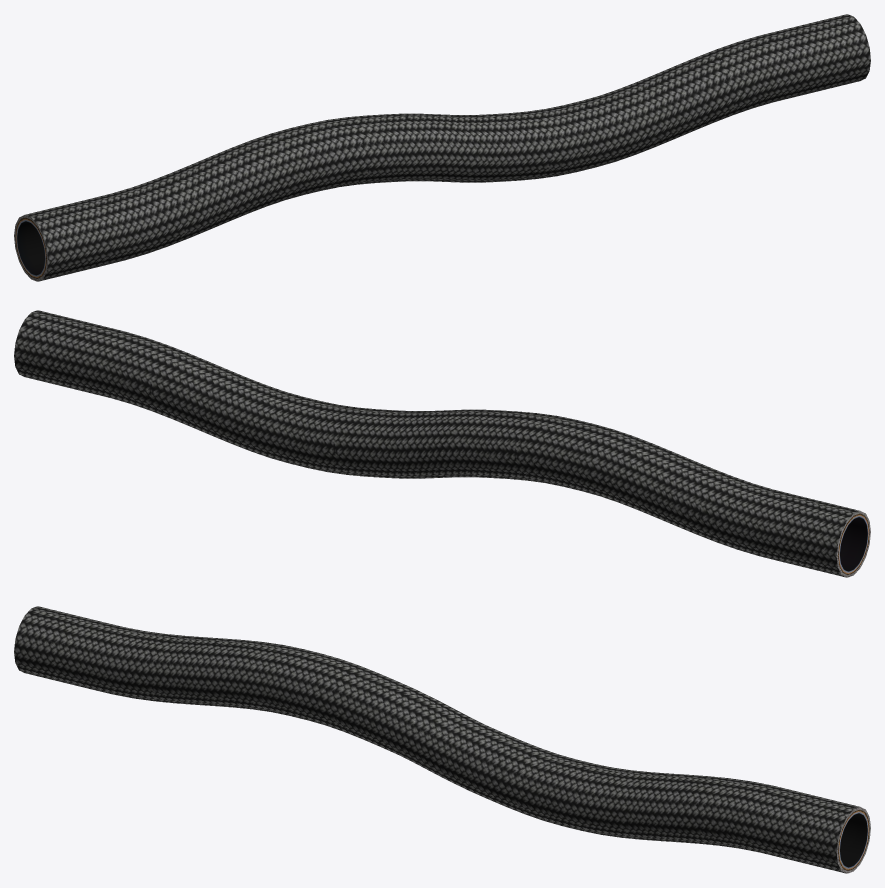
The picture shows the model from 3 angles, top to bottom: view 1: azimuth 30°, elevation 25°; view 2: azimuth 150°, elevation 25°; view 3: azimuth 330°, elevation 25°; orthographic projection.
Visible parts, largest first — view 1: Aramid_Braid-20; view 2: Aramid_Braid-20; view 3: Aramid_Braid-20.
Boxes of the visible parts, x1,y1,x2,y2 form: Aramid_Braid-20: (14, 14, 870, 281); Aramid_Braid-20: (14, 310, 870, 577); Aramid_Braid-20: (14, 606, 870, 873).
Size of the model in its own units: 0.5 by 0.0615 by 0.0361.
2 materials, 2 textured.
